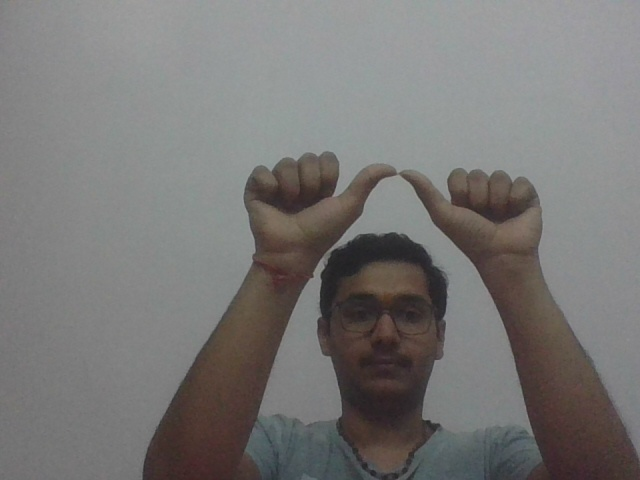A: (238, 152, 560, 250)
